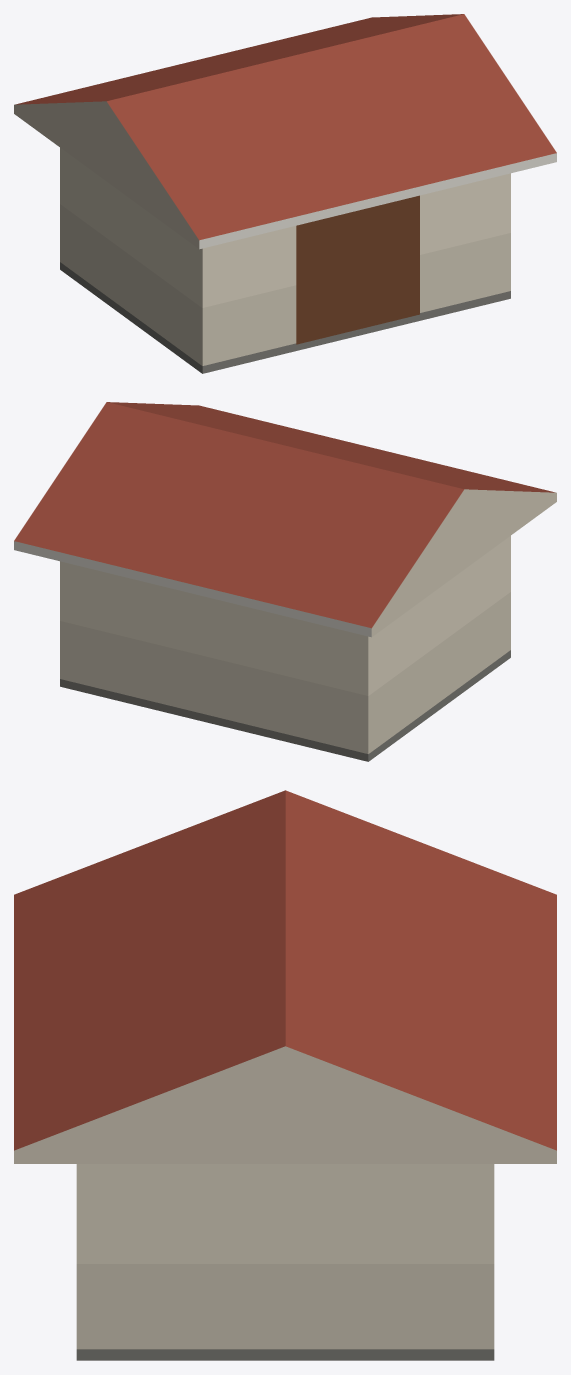
Rendered from house_5x4_lod1.glb.
3 renders of one model, top to bottom at view 1: azimuth 30°, elevation 25°; view 2: azimuth 150°, elevation 25°; view 3: azimuth 270°, elevation 25°, orthographic. The views are drawn at different scales.
Visible parts, largest first — view 1: house; view 2: house; view 3: house.
Boxes of the visible parts, left/top/right/bottom form: house: left=14, top=14, right=556, bottom=373; house: left=14, top=402, right=556, bottom=761; house: left=14, top=790, right=556, bottom=1360.
Bounding box in the file's own units: 5.8 × 3.51 × 5.2.
